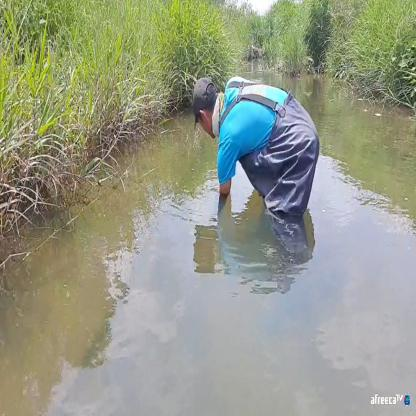streamer: (193, 76, 320, 263)
